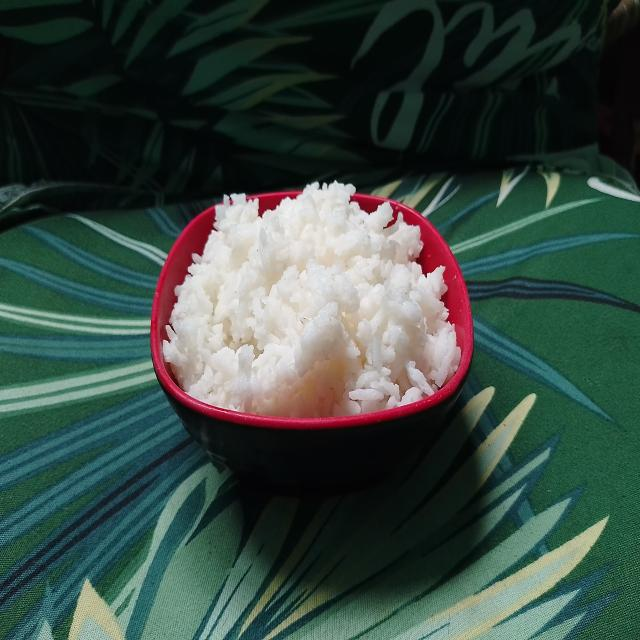Chicken -Chicken Inasal-: (165, 166, 467, 413)
